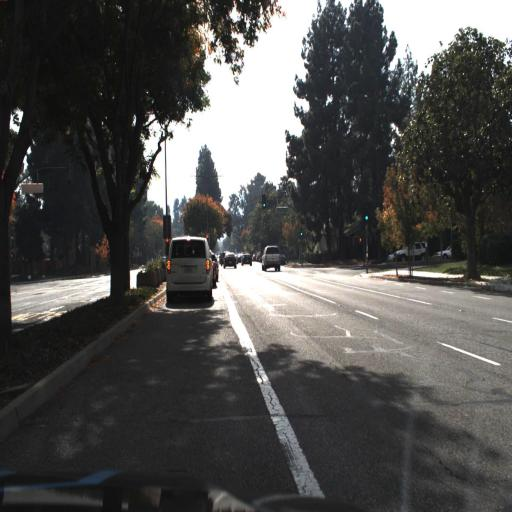car: (163, 233, 211, 307), (382, 235, 429, 266), (260, 241, 287, 278), (390, 241, 426, 263), (210, 246, 220, 290), (219, 249, 238, 271), (239, 248, 258, 269), (437, 244, 454, 260), (241, 252, 253, 270)
trafficLight-Green: (259, 188, 266, 210), (298, 219, 305, 238), (363, 204, 370, 220), (261, 194, 267, 212), (299, 230, 305, 247), (363, 209, 369, 226)
trafficLight-Red: (164, 236, 170, 254)
